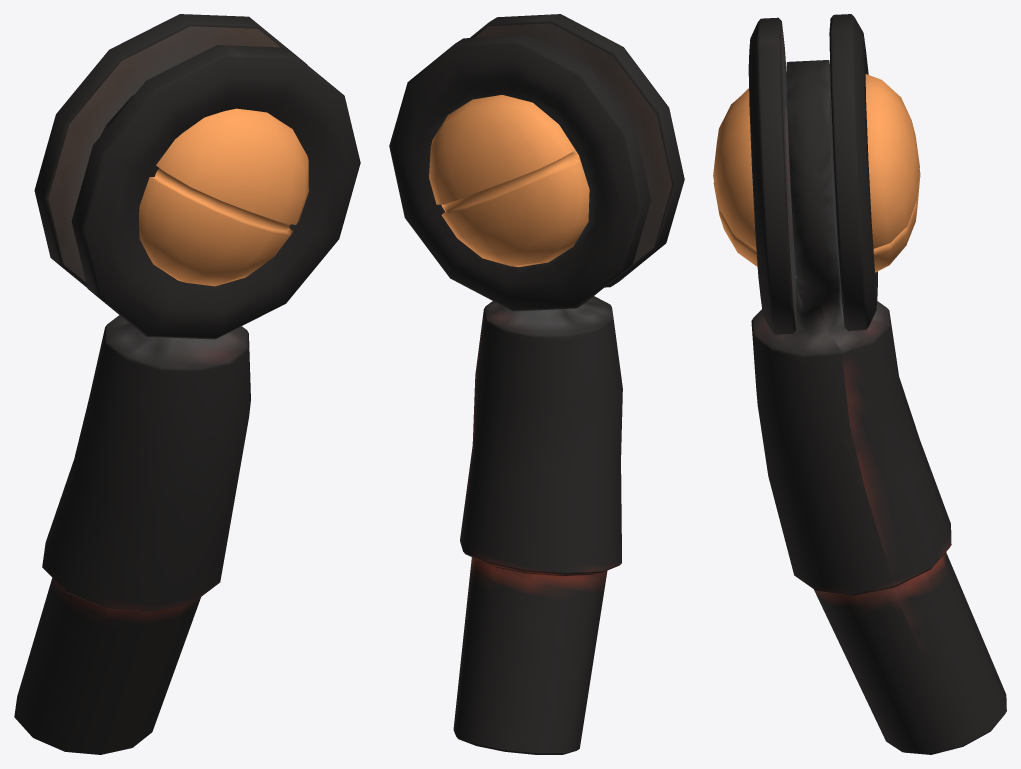
Rendered from leg_up_left.obj.
3 views of the same model, side by side, from view 1: azimuth 30°, elevation 25°; view 2: azimuth 150°, elevation 25°; view 3: azimuth 270°, elevation 25° (orthographic). The views are drawn at different scales.
Visible parts, largest first — view 1: leg_up_left leg_up_left1, leg_plate_front_left leg_up_left, leg_up_left leg_screw_front_left pivot, leg_up_left leg_plate_back_left; view 2: leg_up_left leg_up_left1, leg_up_left leg_plate_back_left, leg_up_left pivot leg_screw_back_left, leg_plate_front_left leg_up_left; view 3: leg_up_left leg_up_left1, leg_plate_front_left leg_up_left, leg_up_left leg_plate_back_left, leg_up_left pivot leg_screw_back_left, leg_up_left leg_screw_front_left pivot.
Part boxes in pixels (x1,y1,x2,y2): leg_up_left leg_up_left1: (14, 94, 250, 754); leg_plate_front_left leg_up_left: (71, 45, 360, 339); leg_up_left leg_screw_front_left pivot: (139, 108, 308, 286); leg_up_left leg_plate_back_left: (34, 14, 307, 287); leg_up_left leg_up_left1: (453, 296, 622, 754); leg_up_left leg_plate_back_left: (389, 35, 651, 311); leg_up_left pivot leg_screw_back_left: (429, 95, 589, 267); leg_plate_front_left leg_up_left: (470, 14, 684, 287); leg_up_left leg_up_left1: (751, 60, 1006, 754); leg_plate_front_left leg_up_left: (748, 17, 796, 334); leg_up_left leg_plate_back_left: (829, 14, 877, 330); leg_up_left pivot leg_screw_back_left: (865, 74, 920, 272); leg_up_left leg_screw_front_left pivot: (713, 88, 793, 266).
Bounding box in the file's own units: 0.156 × 0.3947 × 0.1444.
Materials: 1 (1 with a texture image).
